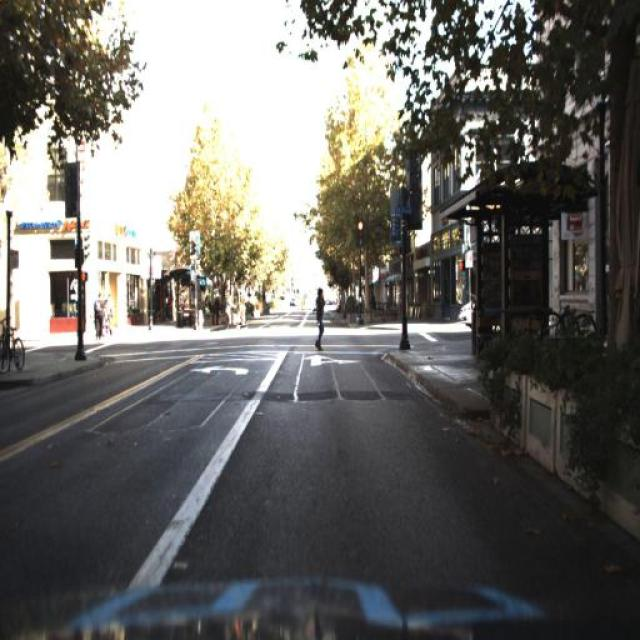car: (454, 270, 474, 340)
trafficLight: (217, 284, 249, 340), (307, 280, 328, 346), (103, 282, 117, 347), (92, 289, 102, 350)
trafficLight-RedLeft: (352, 210, 366, 250)
